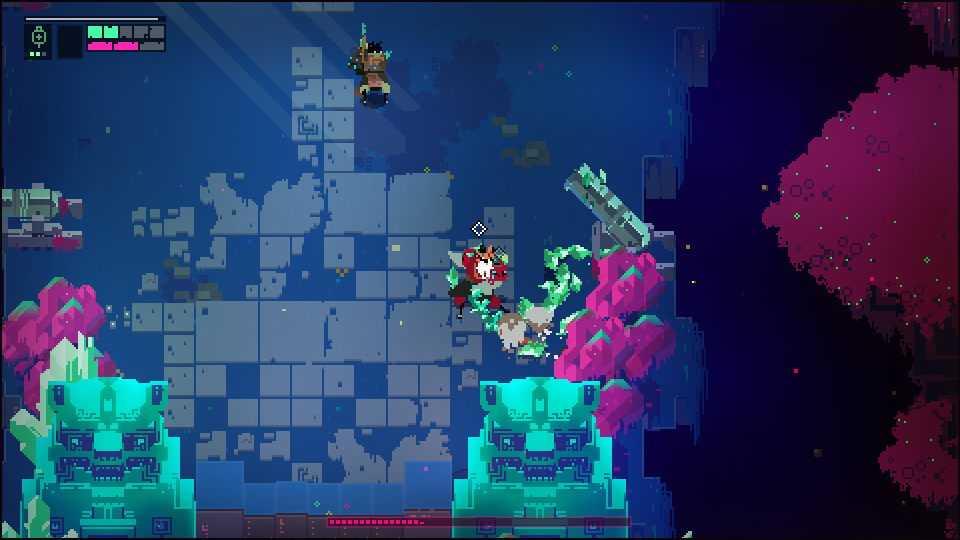hanged_man: (442, 240, 522, 335)
